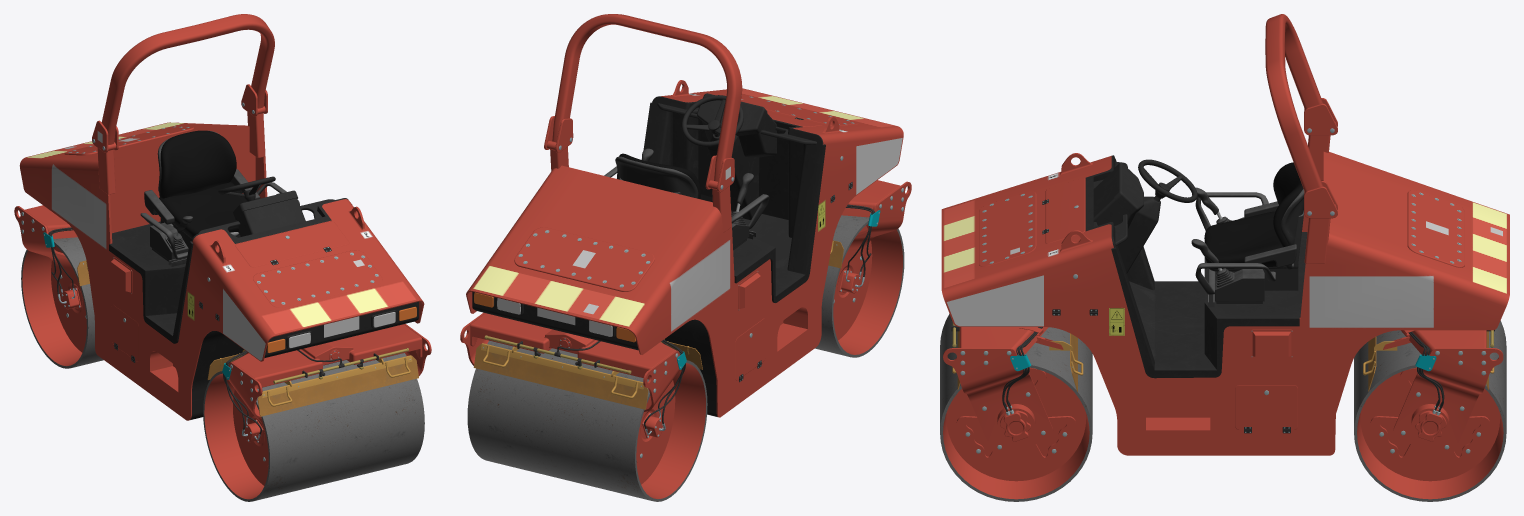
File: собранная сцена4.fbx
3 renders of one model, left to right at view 1: azimuth 30°, elevation 25°; view 2: azimuth 150°, elevation 25°; view 3: azimuth 270°, elevation 25°, orthographic. The views are drawn at different scales.
Parts seen in each view (by area): view 1: korpus_1_Low, p41_low, p41_low.001, korpus_8_low, korpus_20_Low, p9_low, korpus_21_low, kreslo_1_low, korpus_4_Low, p14_low, korpus_24_low, kreslo_6_low (+16 smaller); view 2: korpus_1_Low, p41_low.001, korpus_8_low, p41_low, korpus_20_Low, korpus_23_low, p9_low.001, p14_low.002, korpus_4_Low, p8_Low, p8_Low.001, korpus_10_Low (+15 smaller); view 3: korpus_1_Low, p41_low, korpus_8_low, p41_low.001, p8_Low.001, p8_Low, korpus_20_Low, nakleika_Low, korpus_21_low, korpus_23_low, kreslo_6_low, korpus_1.2_Low (+20 smaller).
Part boxes in pixels (bbox=[...]): korpus_1_Low: bbox=[19, 122, 424, 420]; p41_low: bbox=[203, 353, 424, 501]; p41_low.001: bbox=[21, 237, 103, 368]; korpus_8_low: bbox=[109, 198, 348, 343]; korpus_20_Low: bbox=[101, 14, 274, 144]; p9_low: bbox=[232, 324, 422, 388]; korpus_21_low: bbox=[253, 250, 382, 307]; kreslo_1_low: bbox=[159, 130, 236, 198]; korpus_4_Low: bbox=[190, 301, 418, 419]; p14_low: bbox=[257, 356, 418, 416]; korpus_24_low: bbox=[235, 221, 348, 267]; kreslo_6_low: bbox=[159, 182, 246, 237]; korpus_1_Low: bbox=[466, 88, 903, 417]; p41_low.001: bbox=[467, 340, 707, 501]; korpus_8_low: bbox=[643, 96, 825, 302]; p41_low: bbox=[815, 215, 904, 357]; korpus_20_Low: bbox=[552, 14, 742, 181]; korpus_23_low: bbox=[514, 227, 654, 291]; p9_low.001: bbox=[470, 313, 675, 379]; p14_low.002: bbox=[473, 343, 648, 409]; korpus_4_Low: bbox=[472, 292, 717, 416]; p8_Low: bbox=[833, 181, 911, 309]; p8_Low.001: bbox=[460, 312, 680, 463]; korpus_10_Low: bbox=[697, 93, 776, 157]; korpus_1_Low: bbox=[941, 152, 1509, 455]; p41_low: bbox=[940, 314, 1092, 501]; korpus_8_low: bbox=[1085, 155, 1307, 378]; p41_low.001: bbox=[1354, 320, 1506, 501]; p8_Low.001: bbox=[1393, 348, 1503, 454]; p8_Low: bbox=[943, 348, 1053, 454]; korpus_20_Low: bbox=[1265, 14, 1323, 193]; nakleika_Low: bbox=[947, 221, 1502, 326]; korpus_21_low: bbox=[979, 191, 1036, 266]; korpus_23_low: bbox=[1407, 190, 1464, 267]; kreslo_6_low: bbox=[1204, 211, 1282, 268]; korpus_1.2_Low: bbox=[1235, 385, 1297, 429].
Bounding box in the file's own units: 244 × 499 × 615.
